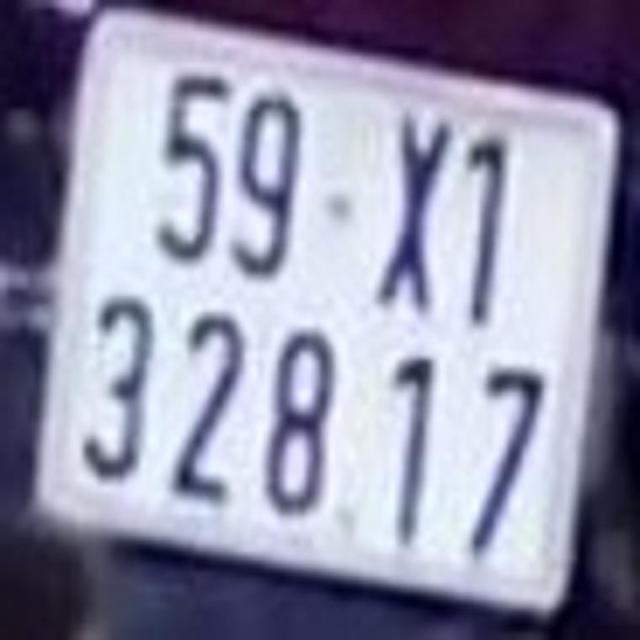1: (460, 124, 511, 327), (384, 352, 436, 551)
2: (171, 305, 242, 505)
3: (81, 291, 154, 483)
5: (151, 66, 228, 265)
7: (467, 360, 547, 563)
8: (263, 323, 334, 519)
9: (230, 82, 301, 279)
X: (376, 109, 448, 313)
